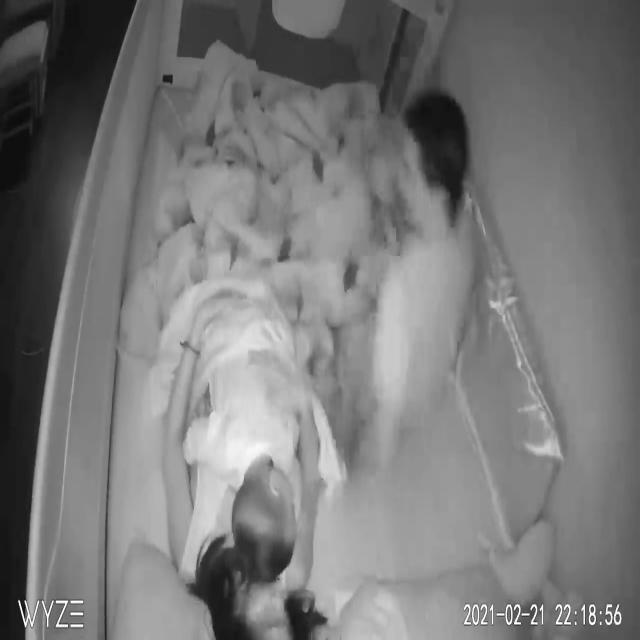baby: (179, 366, 298, 578)
